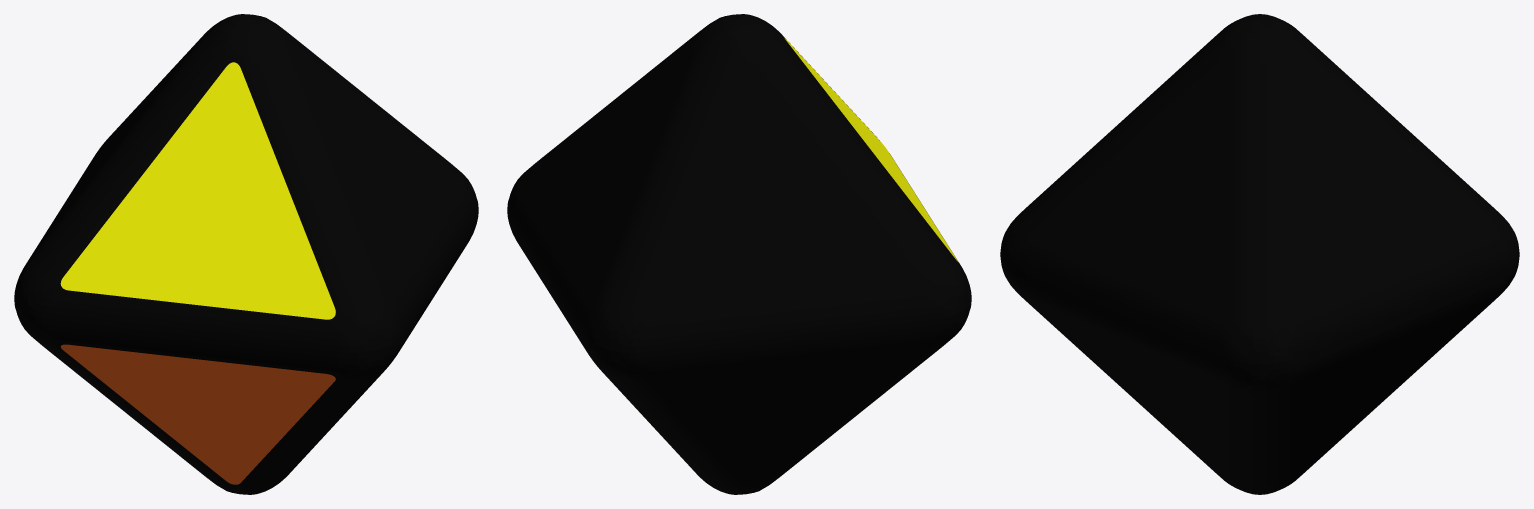
3 views of the same model, side by side, from view 1: azimuth 30°, elevation 25°; view 2: azimuth 150°, elevation 25°; view 3: azimuth 270°, elevation 25° (orthographic).
Visible parts, largest first — view 1: br; view 2: br; view 3: br.
Part boxes in pixels (<box>): br: <box>14,14,478,494</box>; br: <box>507,14,971,494</box>; br: <box>1000,14,1519,494</box>.
Size of the model in its own units: 174 by 174 by 174.
